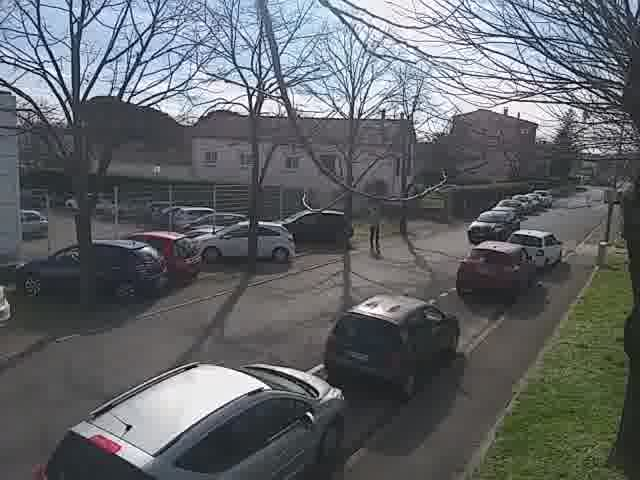persona: (363, 201, 384, 255)
